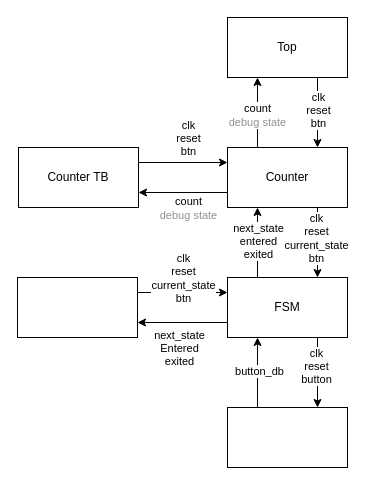
Some shapes in this 365 by 485 pixel diagram are drawn without their labels. The centre of each missing label's shape, as x and y in pixels:
"Debouncer" belongs at (287,437).
"FSM TB" belongs at (77,307).
